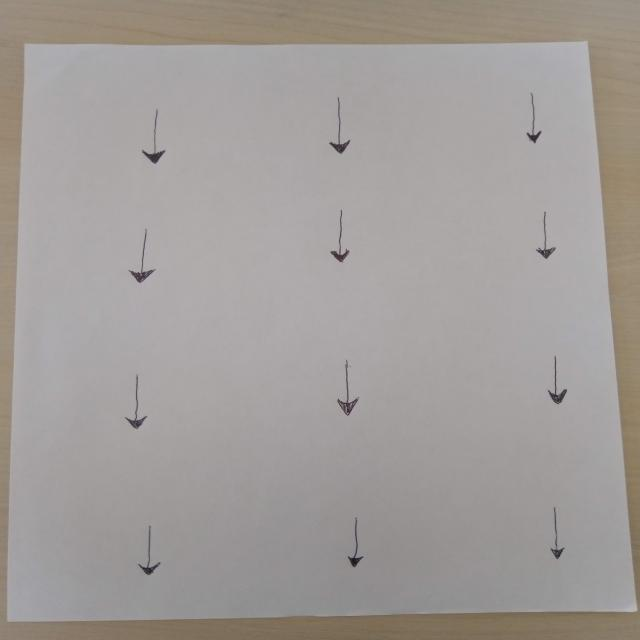arrow_line_down: (529, 346, 582, 413), (129, 515, 182, 582), (112, 370, 166, 428), (132, 104, 177, 170), (533, 503, 579, 567), (327, 513, 379, 567), (124, 224, 166, 290), (327, 354, 369, 420), (513, 88, 559, 148), (322, 95, 362, 163), (531, 208, 577, 266), (329, 208, 366, 266)
